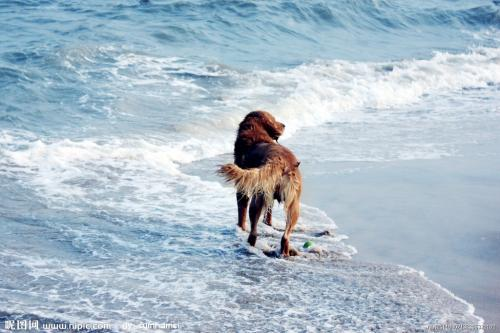dog: (222, 102, 306, 156)
